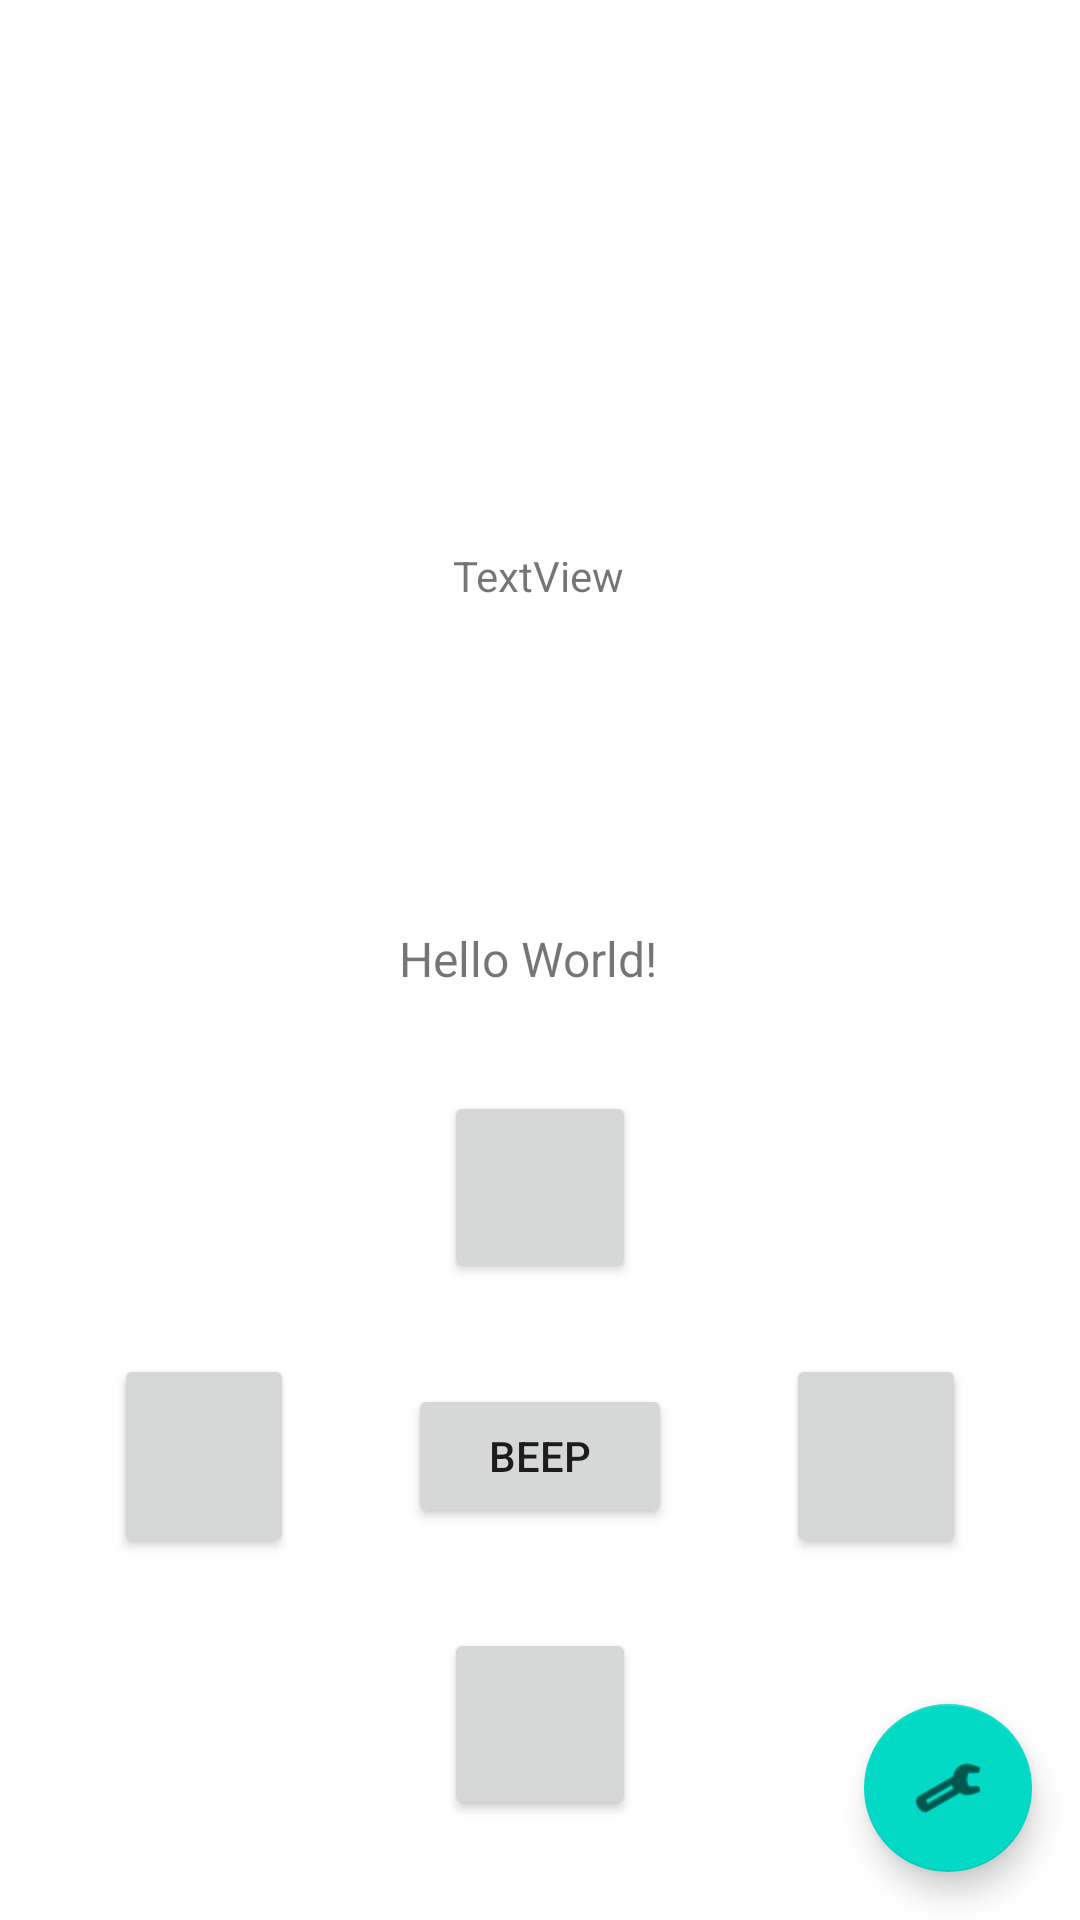

Named icons in this screenshot (1080w x 1920h) and their bounding boxes, [x1,y1,x2,y2]:
manage: [864,1704,1032,1872]
